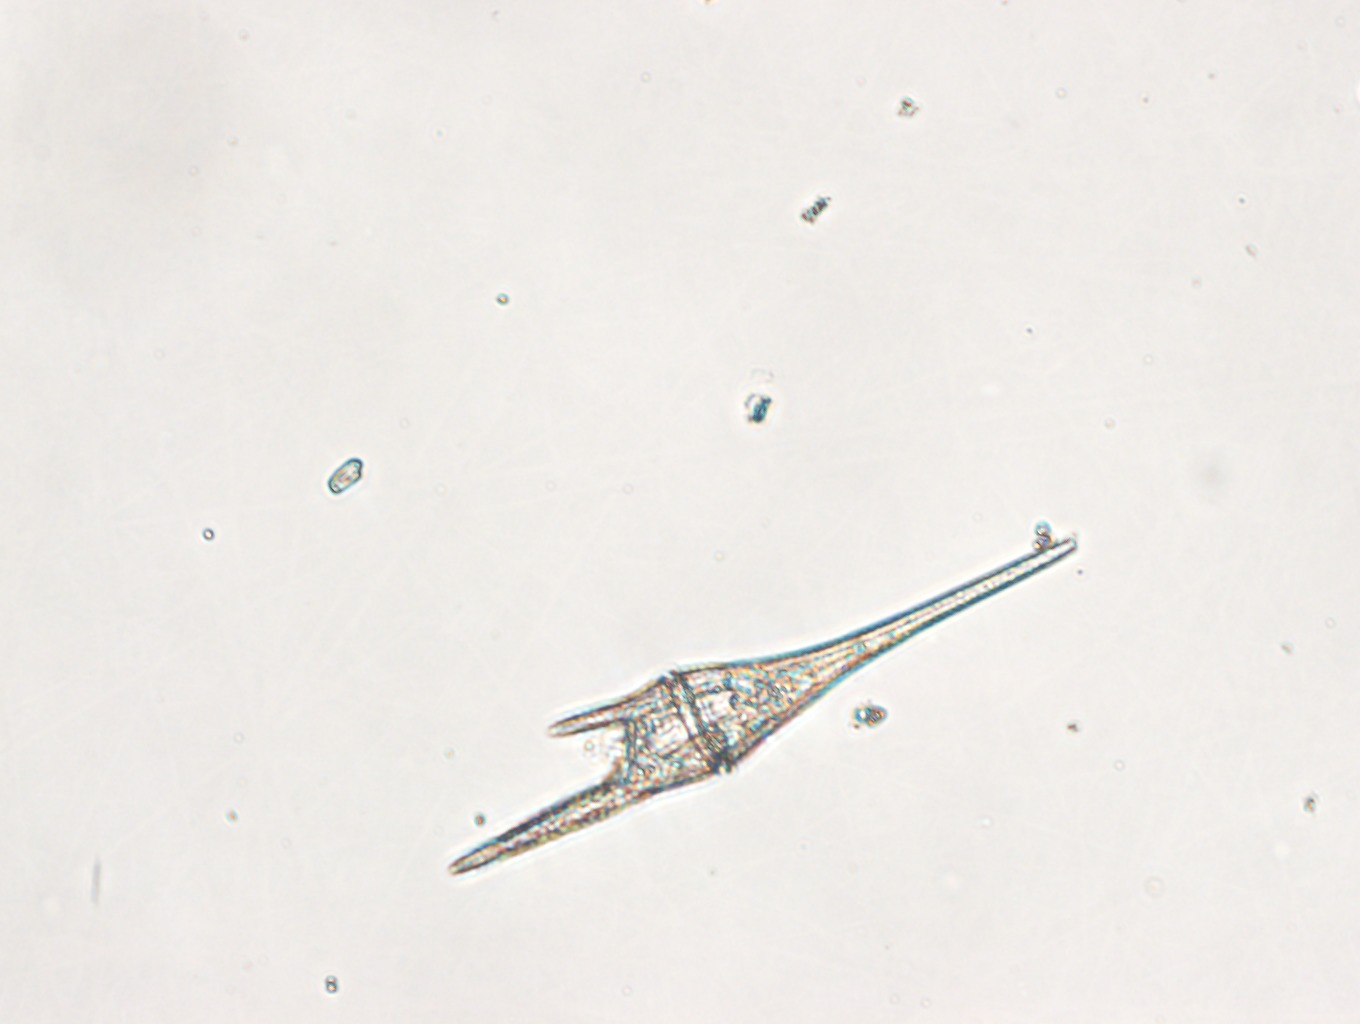ceratium furca: (446, 536, 1079, 880)
